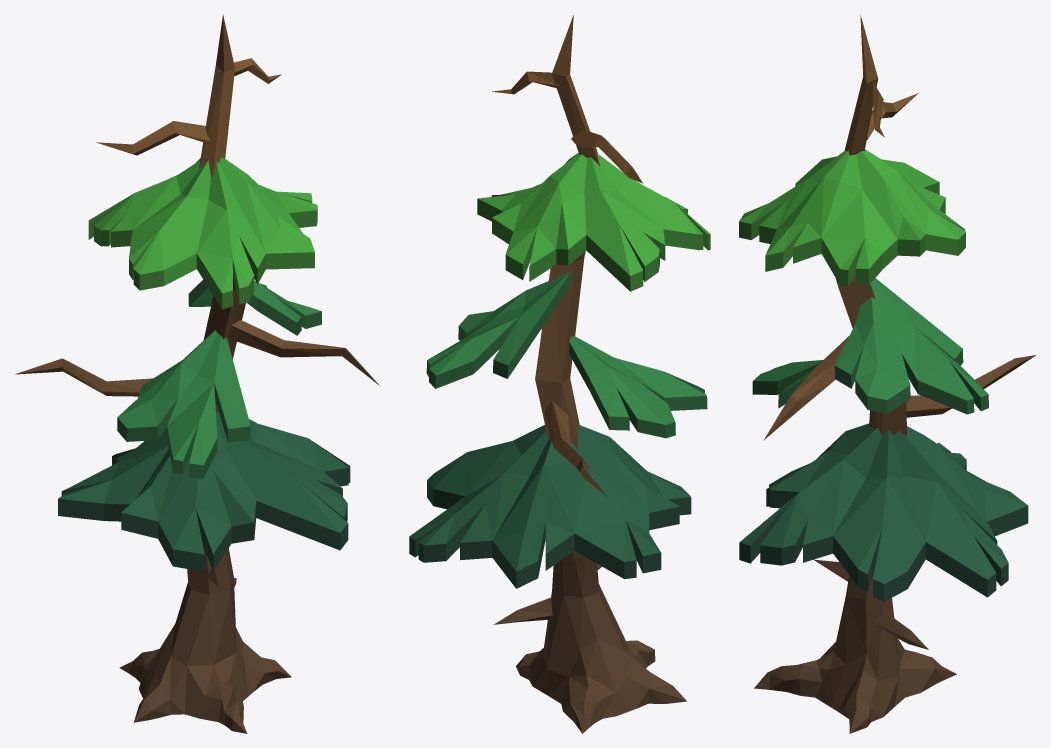
Rendered from um_tree002.FBX.
The picture shows the model from 3 angles, left to right: view 1: azimuth 30°, elevation 25°; view 2: azimuth 150°, elevation 25°; view 3: azimuth 270°, elevation 25°; orthographic projection. The views are drawn at different scales.
Parts seen in each view (by area): view 1: um_tree002; view 2: um_tree002; view 3: um_tree002.
Part boxes in pixels (bbox=[...]): um_tree002: bbox=[15, 14, 380, 733]; um_tree002: bbox=[409, 15, 710, 733]; um_tree002: bbox=[739, 14, 1035, 733].
Size of the model in its own units: 2.25 by 5.53 by 2.17.
